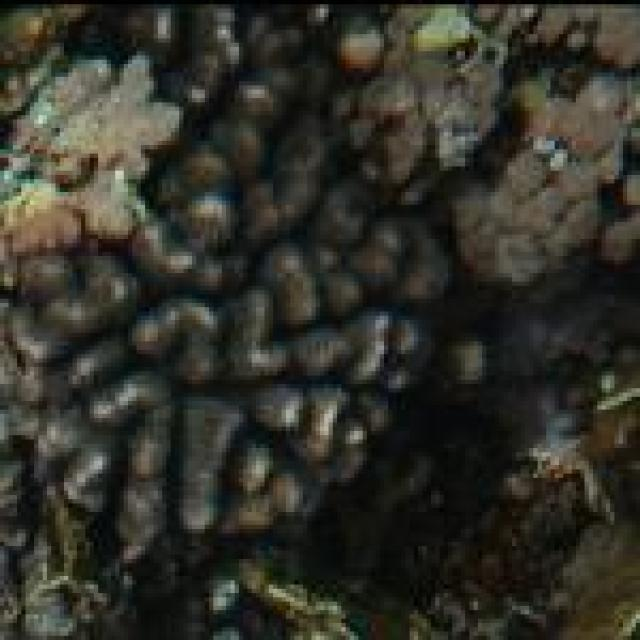Dead Coral: (17, 112, 420, 559)
